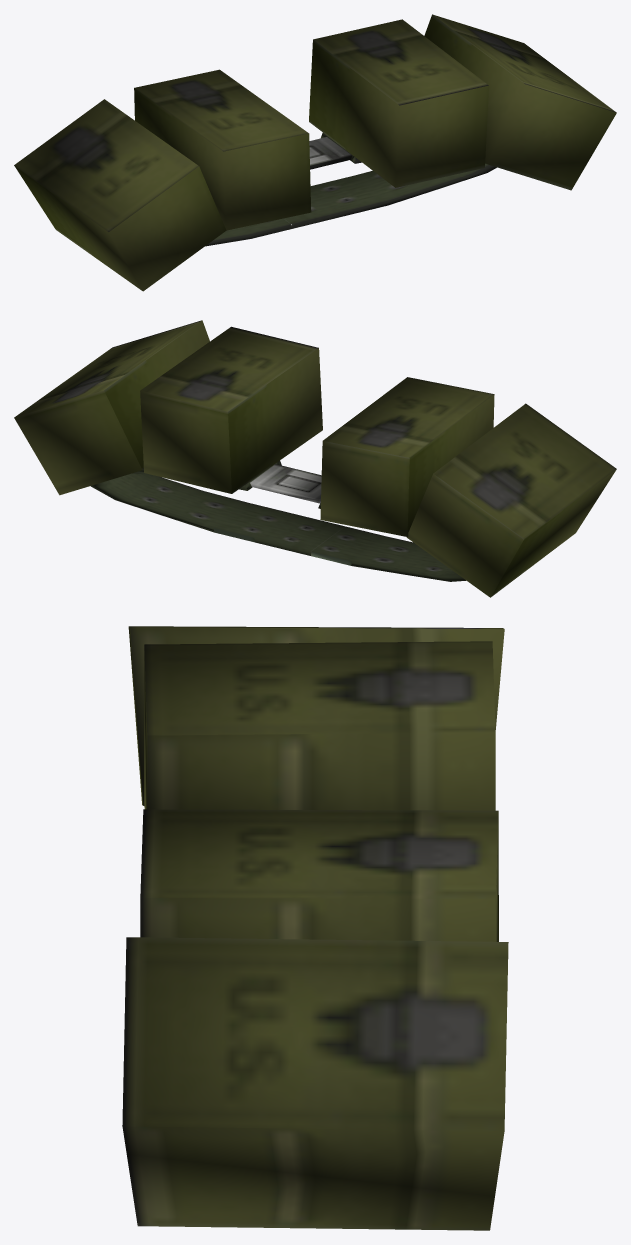
File: WebbingBelt_WorldItem.fbx
3 views of the same model, one above another, from view 1: azimuth 30°, elevation 25°; view 2: azimuth 150°, elevation 25°; view 3: azimuth 270°, elevation 25° (orthographic). The views are drawn at different scales.
Parts seen in each view (by area): view 1: Circle.004; view 2: Circle.004; view 3: Circle.004.
Boxes of the visible parts, x1=… form: Circle.004: x1=14, y1=14, x2=616, y2=291; Circle.004: x1=14, y1=320, x2=616, y2=597; Circle.004: x1=122, y1=626, x2=508, y2=1230.
Size of the model in its own units: 0.5869 by 0.151 by 0.1924.
